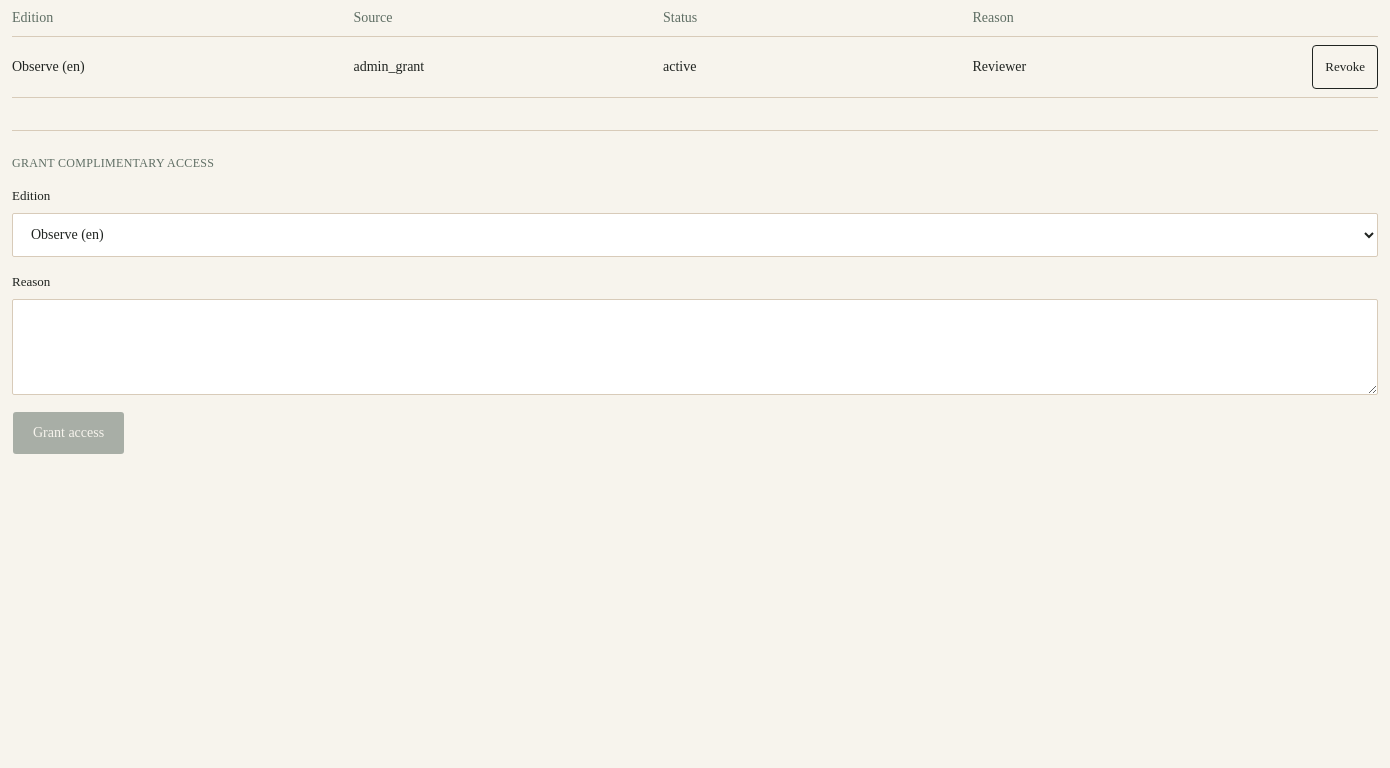
keeps grant inputs after a failure and clears only the reason after a successful retry
This screenshot has width=1390, height=768.
Check: the button "Grant access" is disabled, box [12,411,125,455]
Select "Observe (ja)" in the dropdown labelled "Edition" at (695, 235), box [12,213,1378,257]
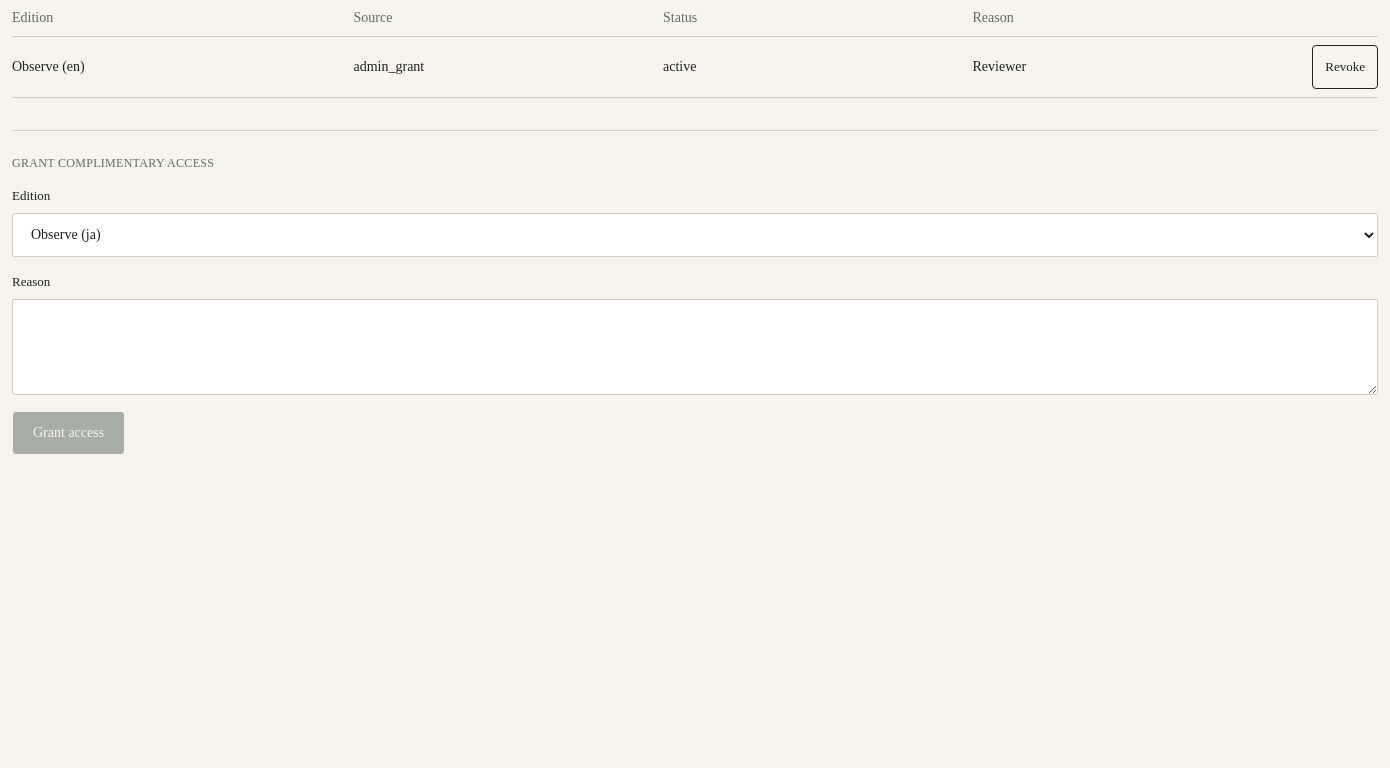
Type "Early reviewer" into the text box labelled "Reason" at (695, 347), box [12,299,1378,395]
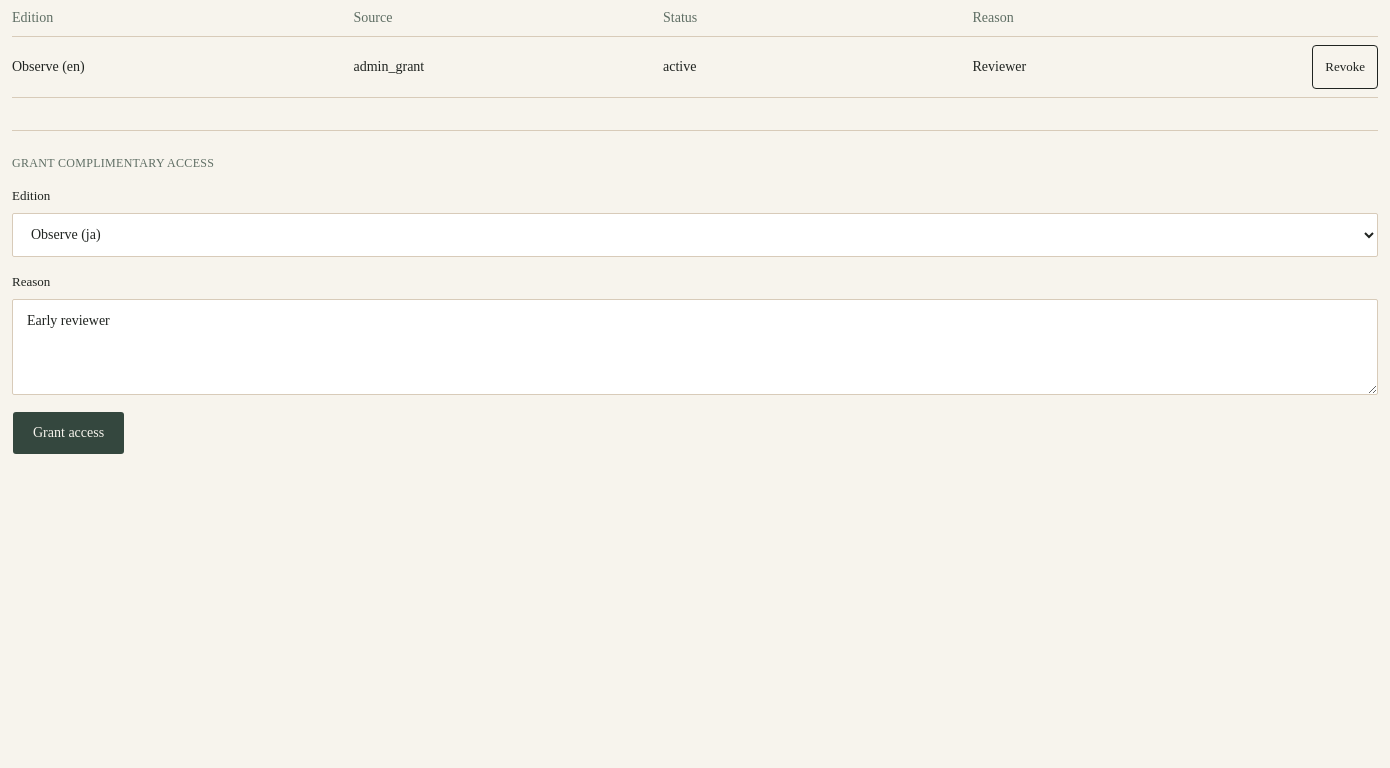
Submit the form "Grant complimentary access", box [12,130,1378,455]
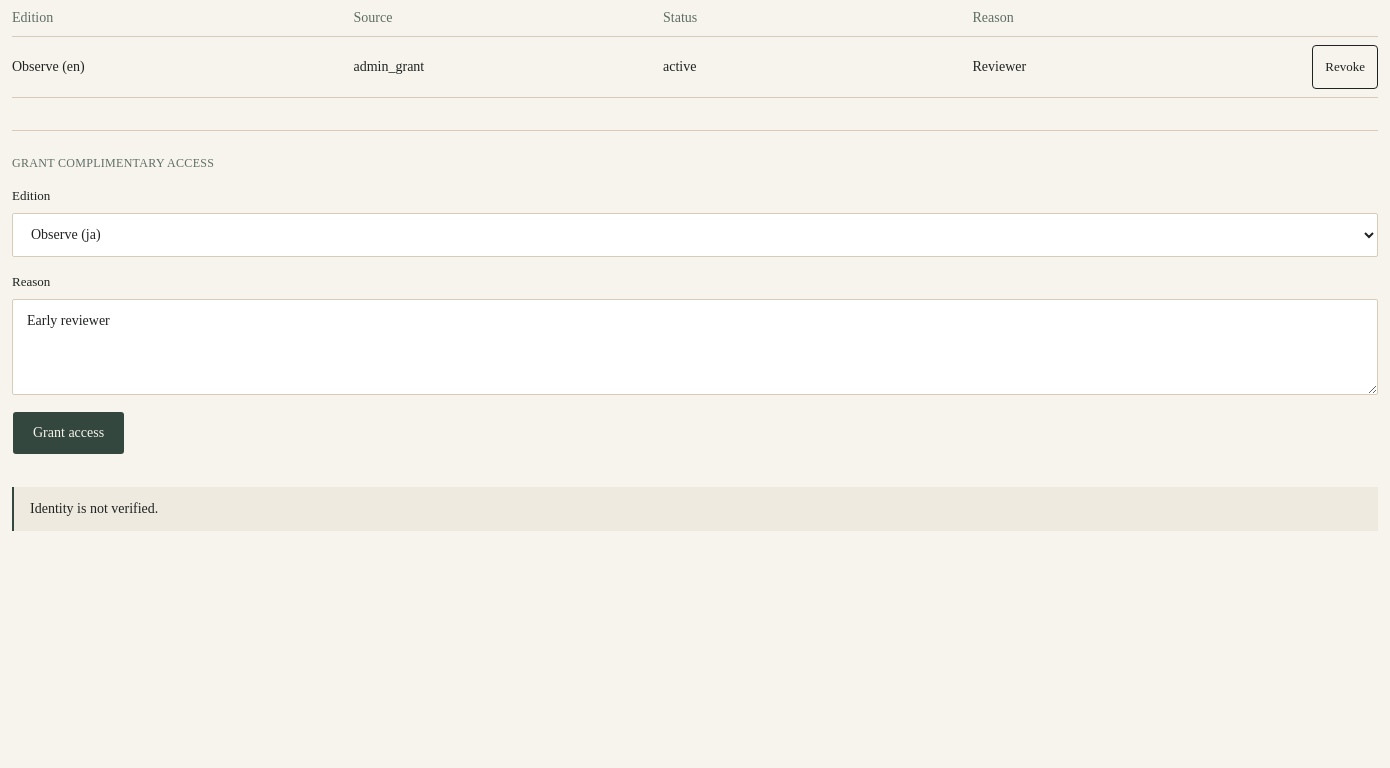
Check: the button "Grant access" is enabled
Check: the message reads "Identity is not verified.", box [30,501,158,516]
Click the button "Grant access" at (69, 433), box [12,411,125,455]
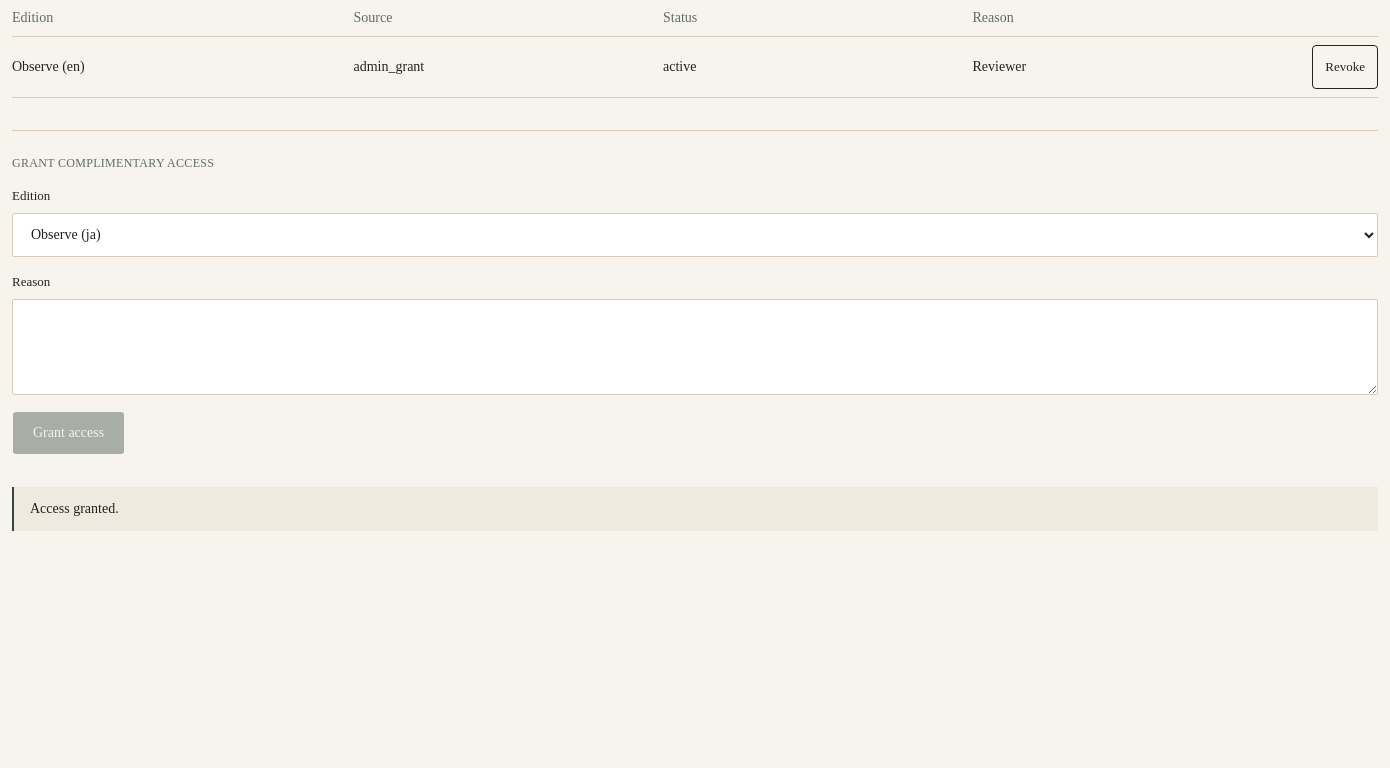
Check: the message with test id "entitlement-message" reads "Access granted.", box [30,501,119,516]
Check: the text box labelled "Reason" is empty, box [12,299,1378,395]
